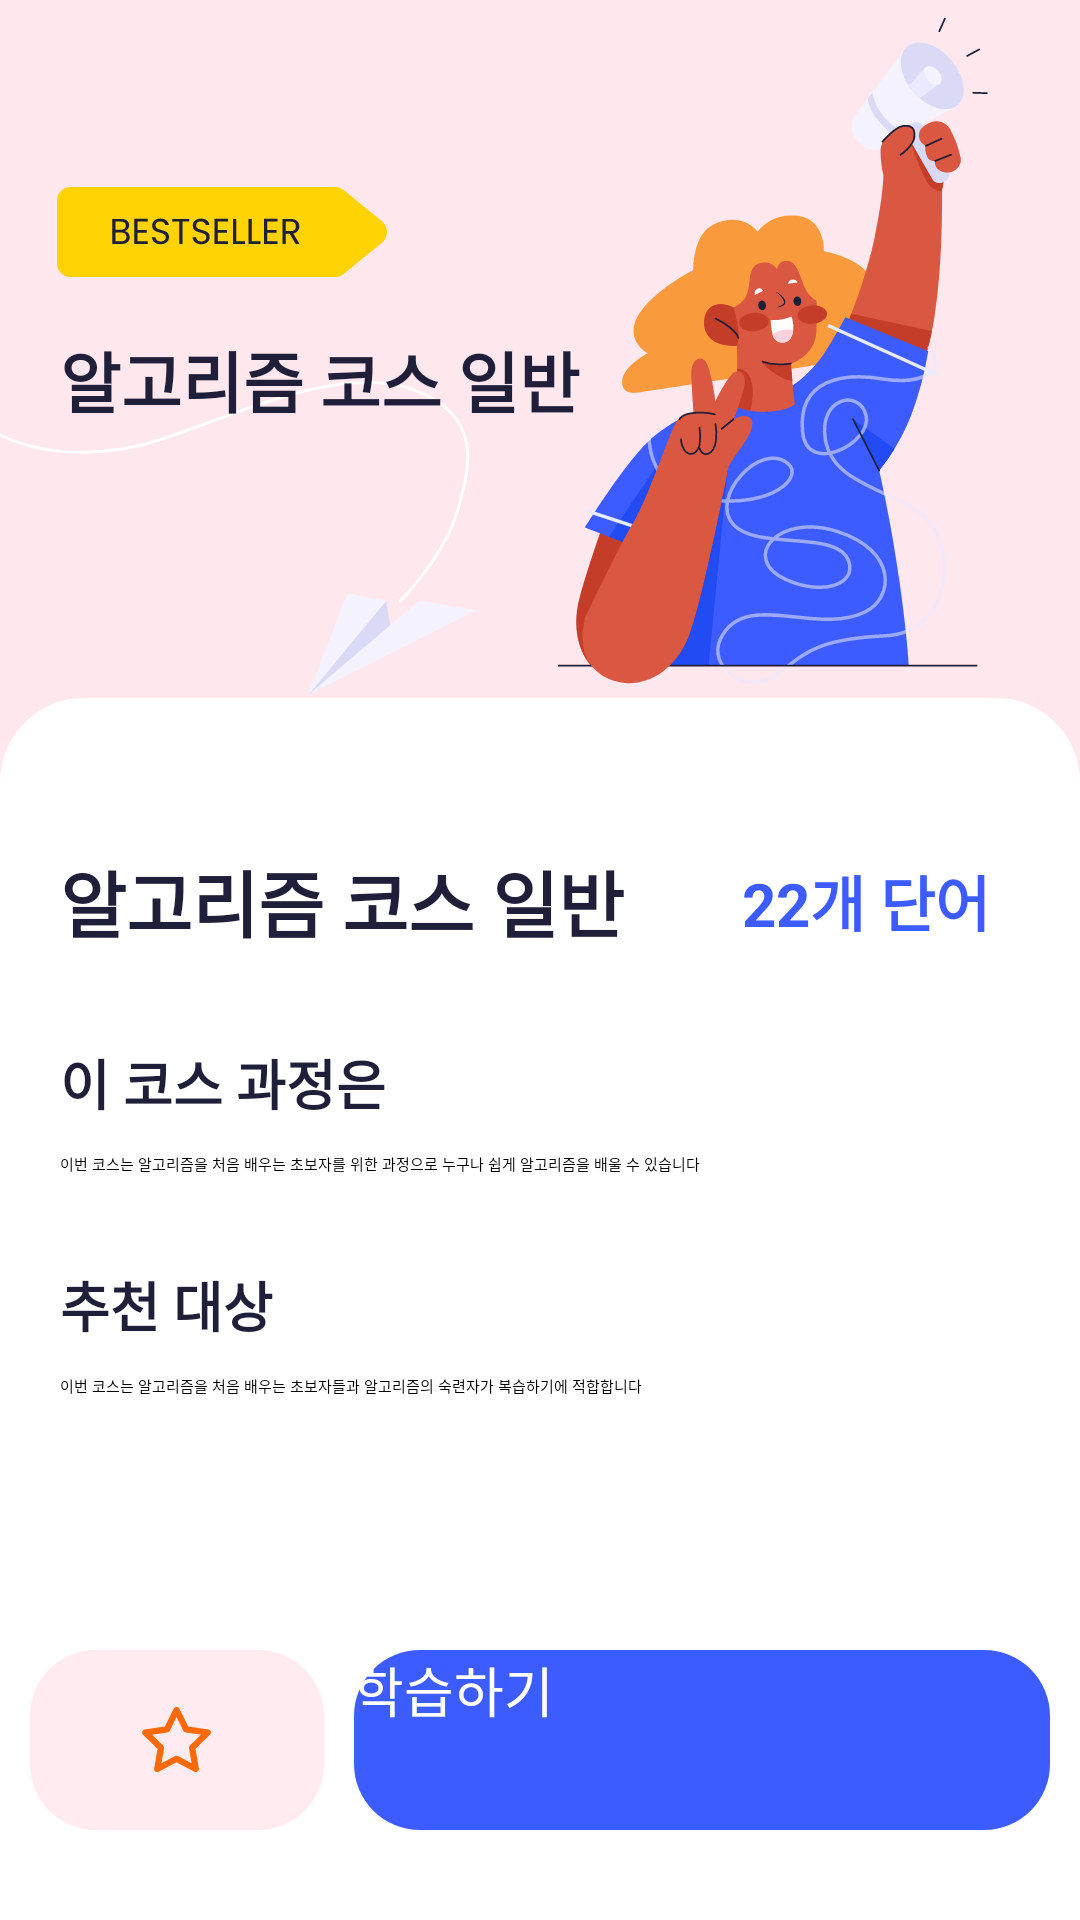

Icons on this 1080px×1920px Android screen, each with its box as {"left": x1, "top": y1, "right": x2, "bottom": y2}:
star: {"left": 142, "top": 1707, "right": 211, "bottom": 1772}
